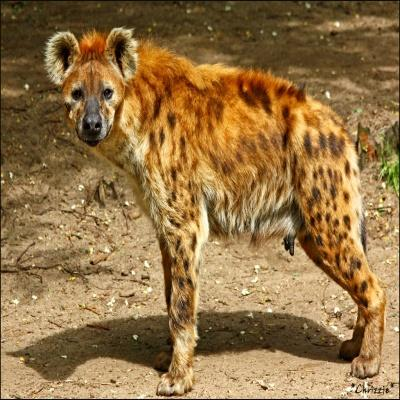hyenas: (27, 0, 400, 400)
